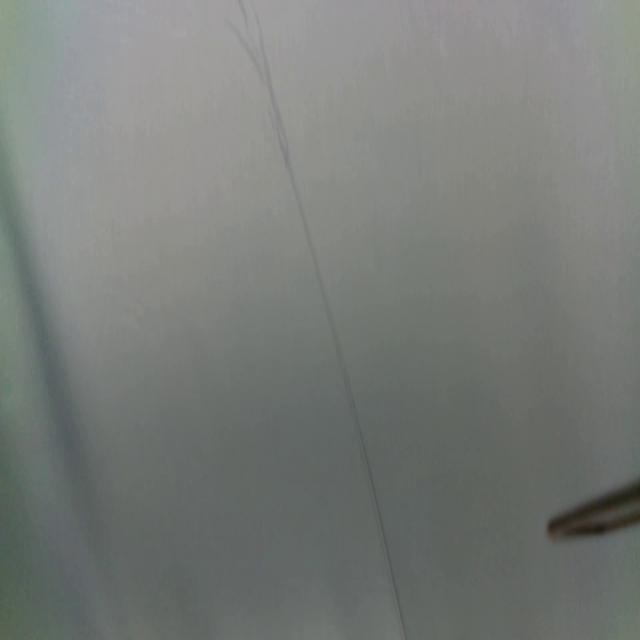crease: (232, 0, 408, 640)
